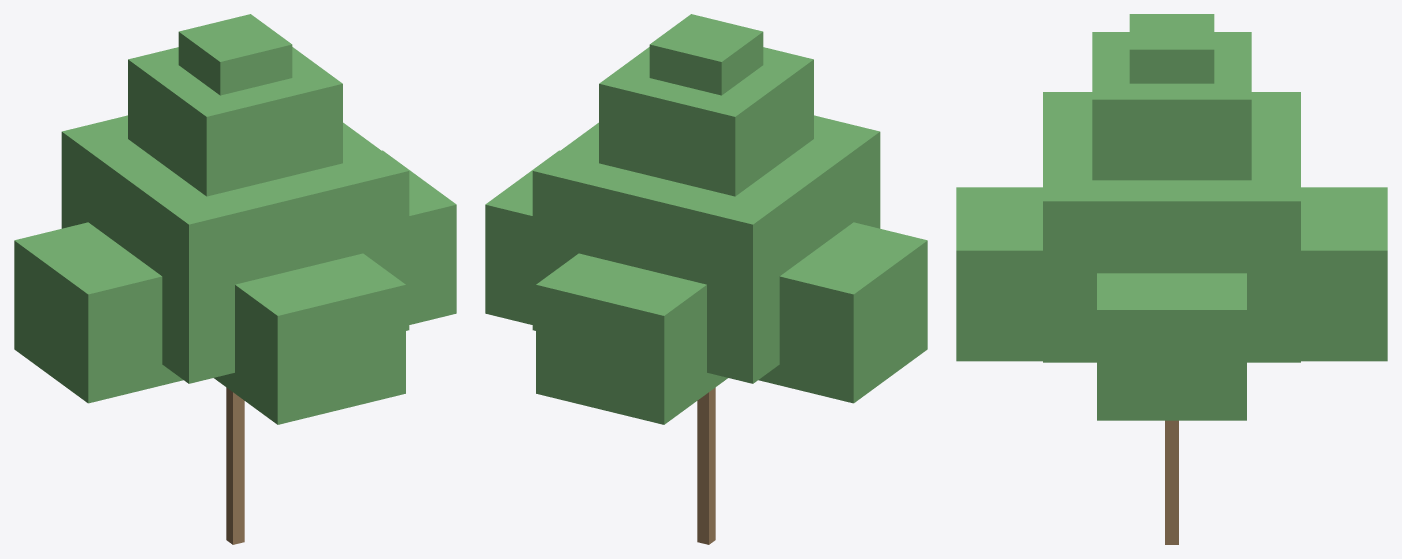
File: Prop_DS_Tree_33.glb
The picture shows the model from 3 angles, left to right: view 1: azimuth 30°, elevation 25°; view 2: azimuth 150°, elevation 25°; view 3: azimuth 270°, elevation 25°; orthographic projection.
Visible parts, largest first — view 1: Prop_DS_Tree_33; view 2: Prop_DS_Tree_33; view 3: Prop_DS_Tree_33.
Part boxes in pixels (x1,y1,x2,y2): Prop_DS_Tree_33: (14,14,456,544); Prop_DS_Tree_33: (485,14,927,544); Prop_DS_Tree_33: (956,14,1387,544).
Size of the model in its own units: 9.43 by 12.3 by 9.43.
